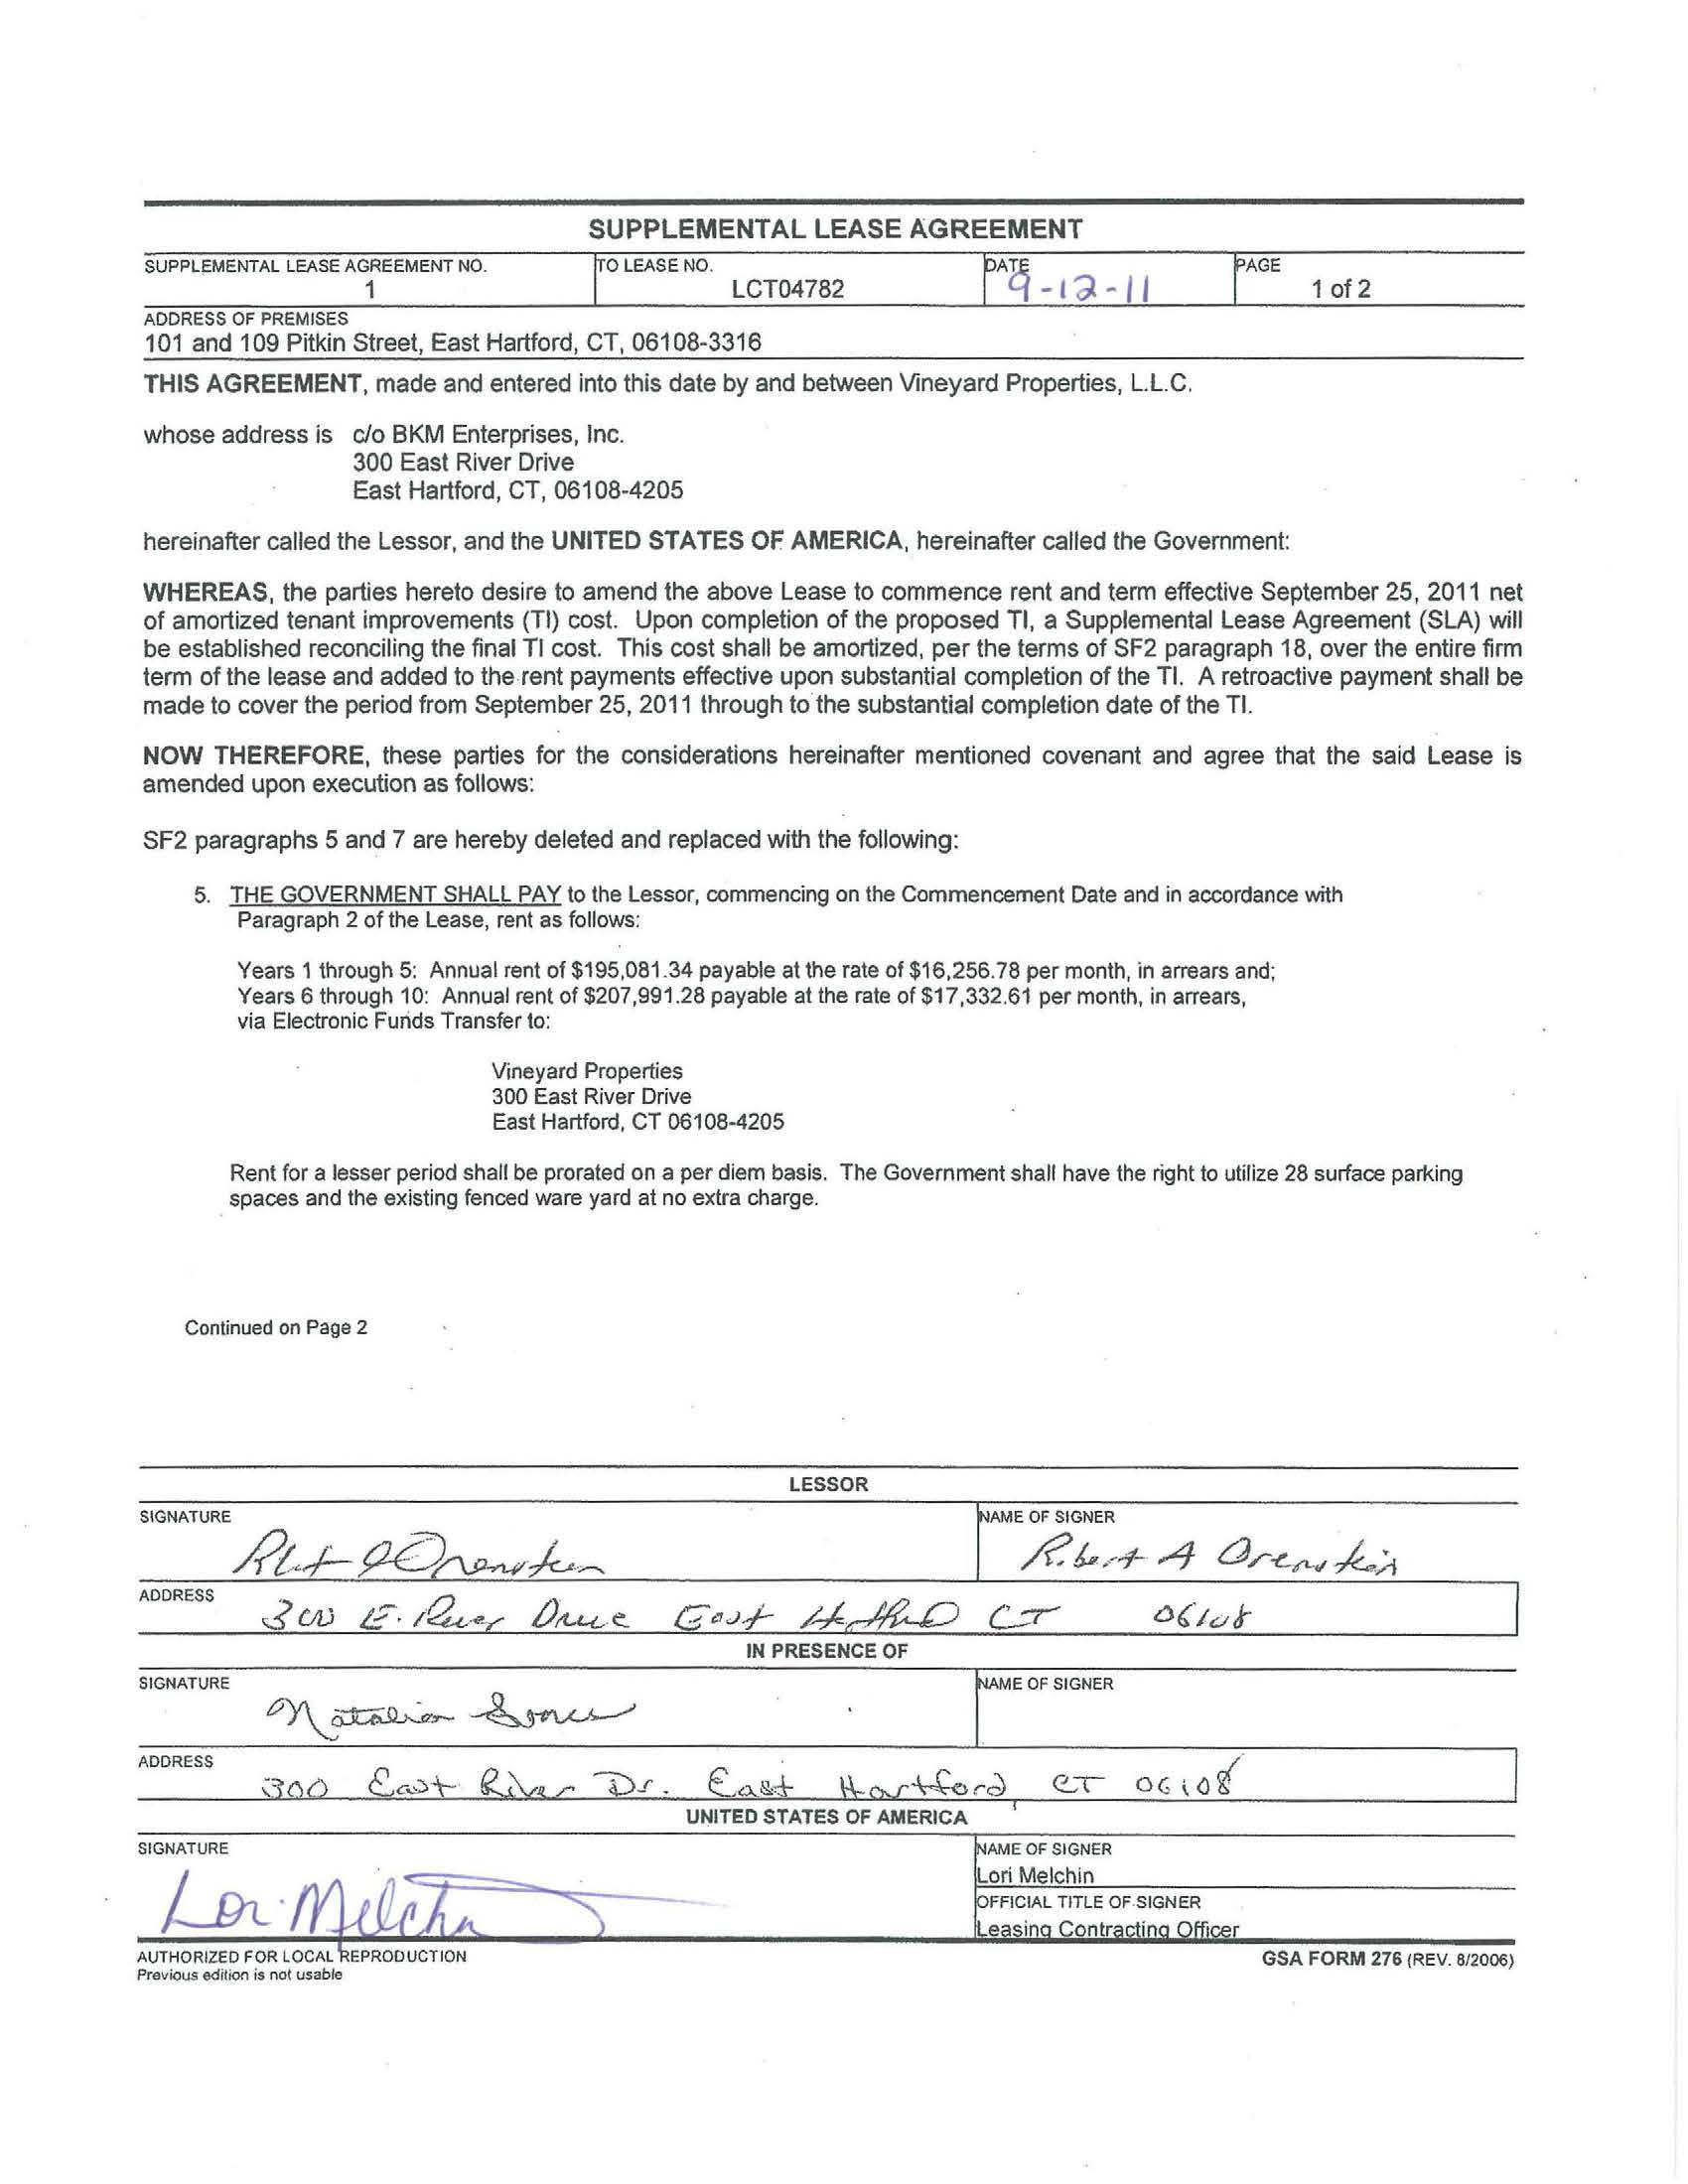handwritten: (236, 1744, 1252, 1801), (246, 1587, 1261, 1636), (129, 1856, 653, 1939), (234, 1501, 624, 1579), (1012, 1525, 1420, 1588), (270, 1670, 656, 1732), (993, 262, 1177, 316)
